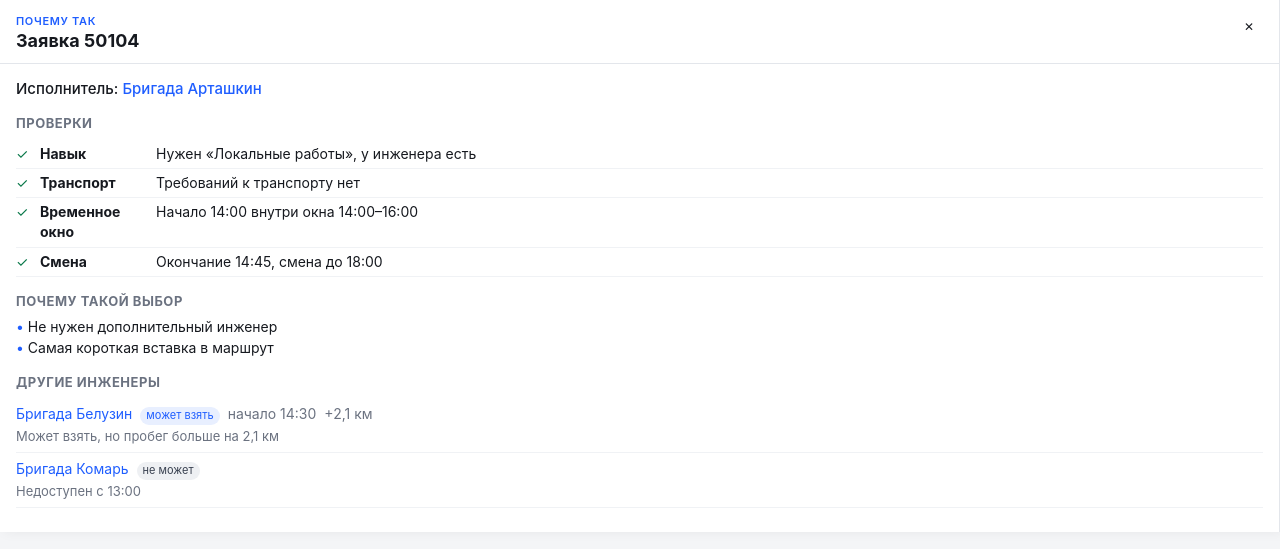
Test case: WhyPanel › opens the brigade page from the table of other engineers and follows it
Click the button "Бригада Комарь" at (72, 469), box [16, 459, 128, 479]
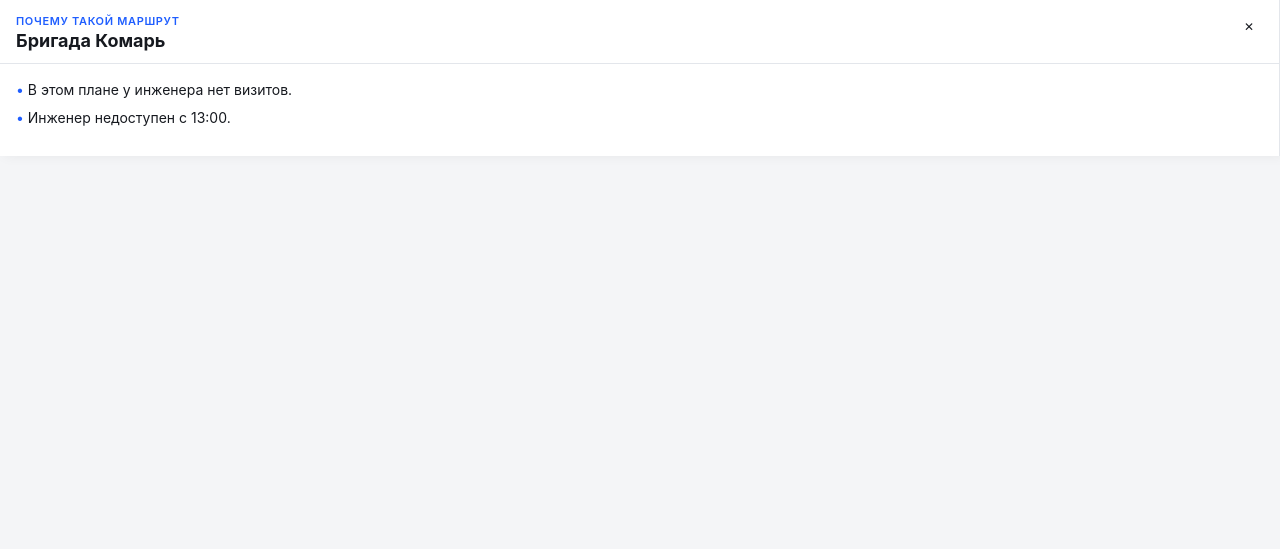
Result: the heading "Бригада Комарь" is shown at [16, 30, 180, 52]
